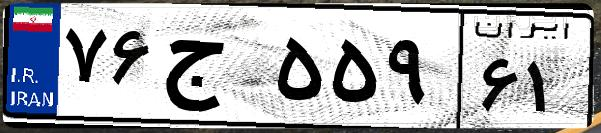1: (525, 38, 570, 115)
5: (270, 28, 330, 110), (330, 28, 385, 110)
6: (475, 38, 525, 113), (110, 28, 158, 98)
7: (57, 26, 110, 100)
9: (385, 28, 445, 110)
ج: (158, 20, 270, 120)
